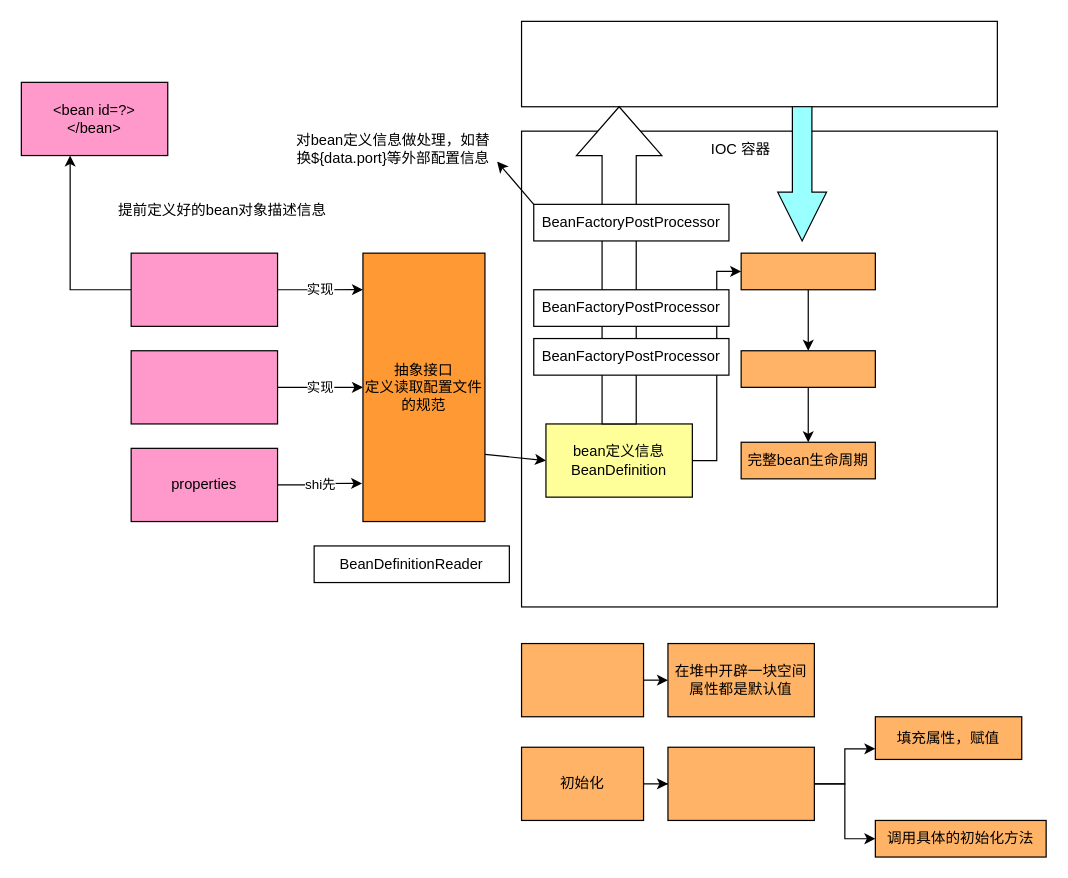
Some shapes in this 1068 by 878 pixel diagram are drawn without their labels. Here are the shapes that lost their labels. From the top down, the centre of each, then its label:
At point 758,63: "BeanFactory".
At point 204,289: "xml".
At point 807,271: "实例化bean".
At point 204,387: "yaml".
At point 807,368: "初始化bean".
At point 582,679: "实例化".
At point 740,783: "给属性完成赋值操作".
